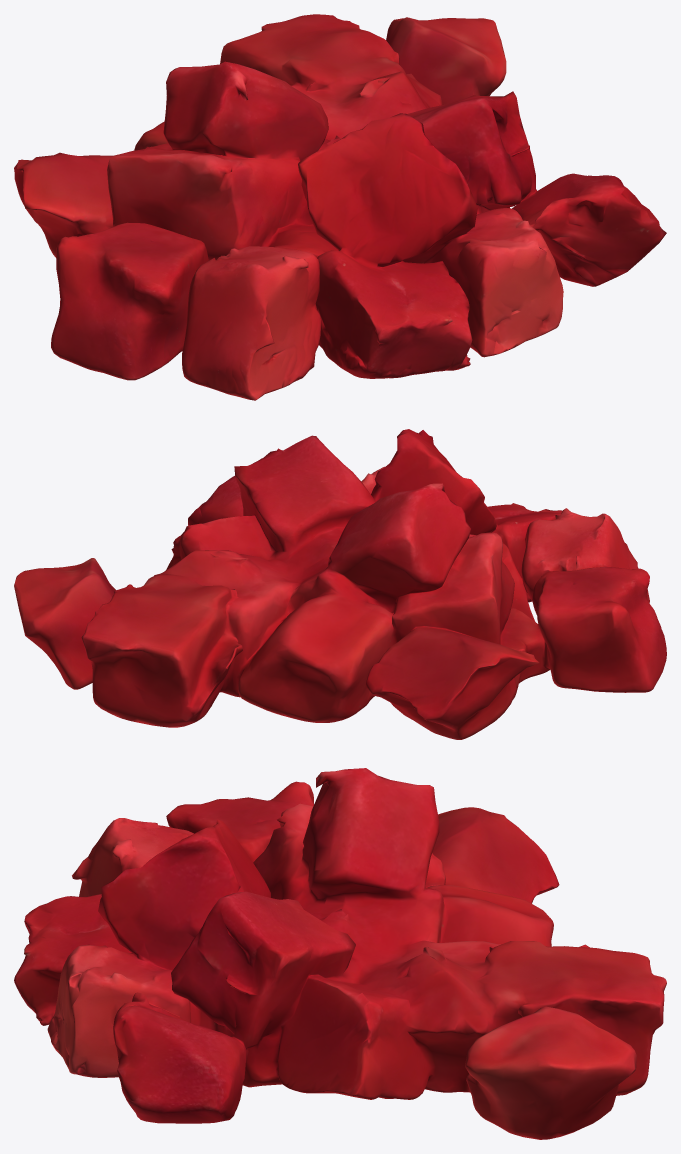
The model's file is carneCubitos.glb.
3 renders of one model, top to bottom at view 1: azimuth 30°, elevation 25°; view 2: azimuth 150°, elevation 25°; view 3: azimuth 270°, elevation 25°, orthographic. The views are drawn at different scales.
Visible parts, largest first — view 1: tripo_node_86fbc323-dd46-4144-affe-8d7746eee2f4; view 2: tripo_node_86fbc323-dd46-4144-affe-8d7746eee2f4; view 3: tripo_node_86fbc323-dd46-4144-affe-8d7746eee2f4.
Boxes of the visible parts, x1,y1,x2,y2 form: tripo_node_86fbc323-dd46-4144-affe-8d7746eee2f4: [14, 14, 666, 400]; tripo_node_86fbc323-dd46-4144-affe-8d7746eee2f4: [14, 429, 666, 739]; tripo_node_86fbc323-dd46-4144-affe-8d7746eee2f4: [14, 768, 666, 1139].
Size of the model in its own units: 0.9815 by 0.3386 by 0.936.
1 material, 1 textured.
